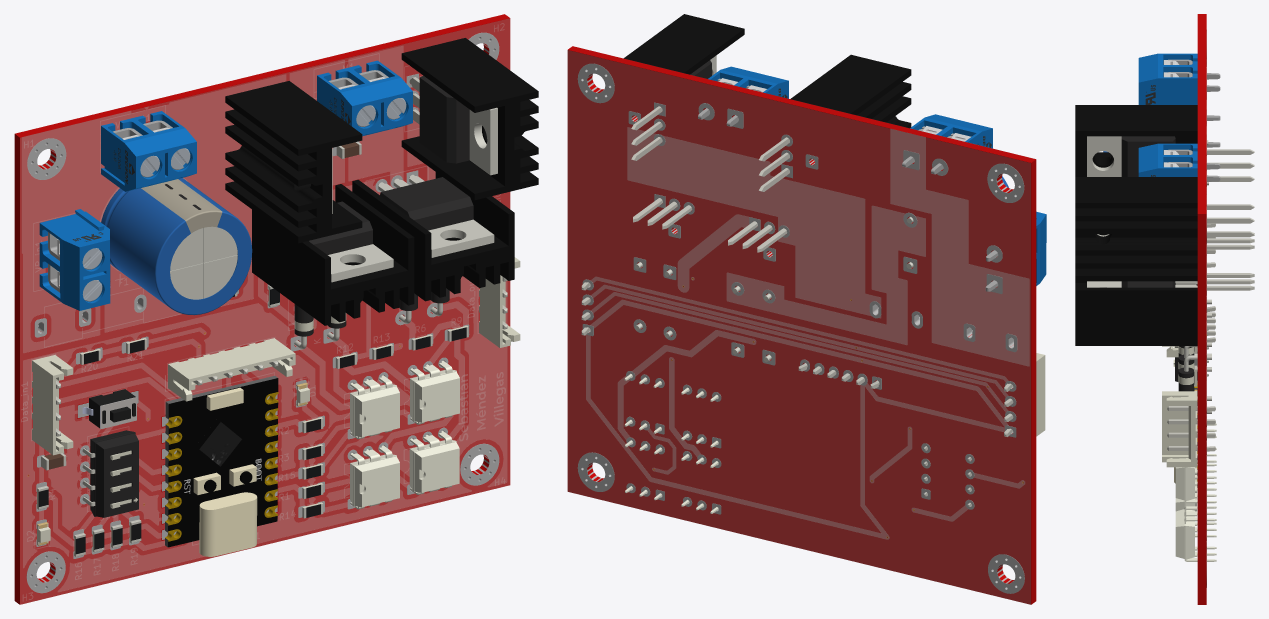
3 views of the same model, side by side, from view 1: azimuth 30°, elevation 25°; view 2: azimuth 150°, elevation 25°; view 3: azimuth 270°, elevation 25° (orthographic). The views are drawn at different scales.
Parts seen in each view (by area): view 1: Sólido1 (×3); view 2: Sólido1 (×2); view 3: Sólido1.
Part boxes in pixels (x1=…): Sólido1 (×3): x1=14, y1=14, x2=538, y2=604; Sólido1 (×2): x1=567, y1=14, x2=1046, y2=604; Sólido1: x1=1075, y1=14, x2=1254, y2=604.
Size of the model in its own units: 0.0806 by 0.0734 by 0.0305.
4 materials, 4 textured.
